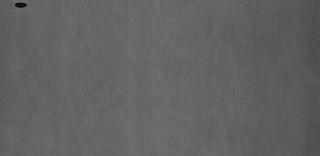punching hole: (12, 0, 30, 10)
